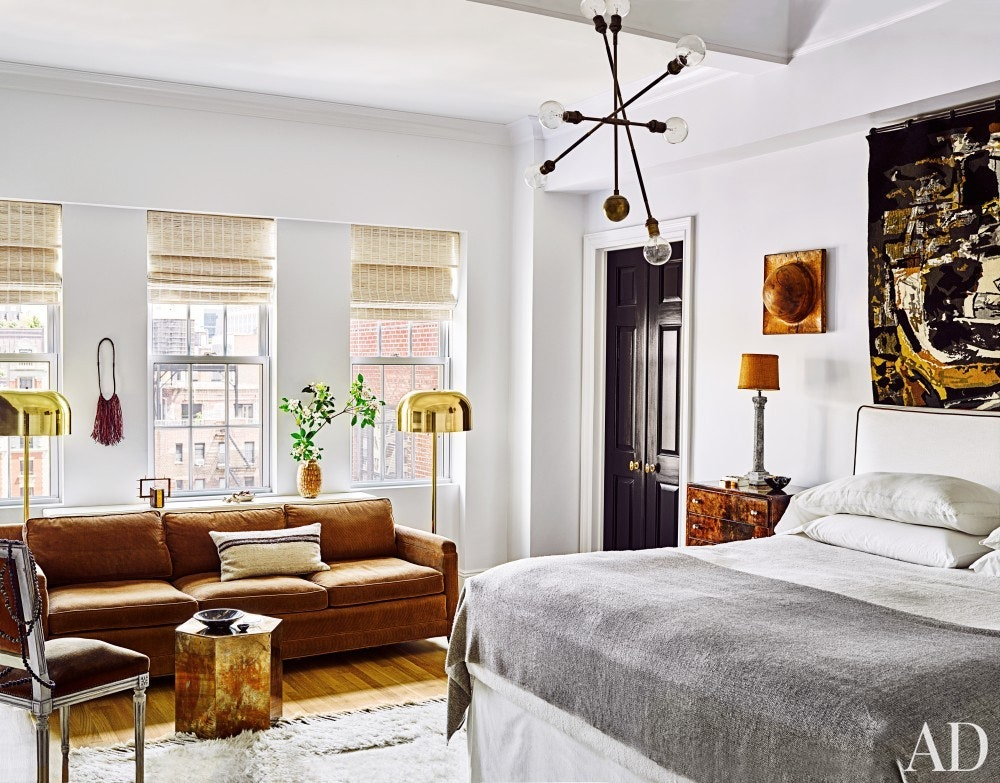bulb: (637, 218, 678, 280), (670, 32, 717, 81), (529, 95, 572, 138), (659, 115, 702, 153), (518, 156, 554, 197), (575, 1, 617, 34), (601, 1, 637, 27)
